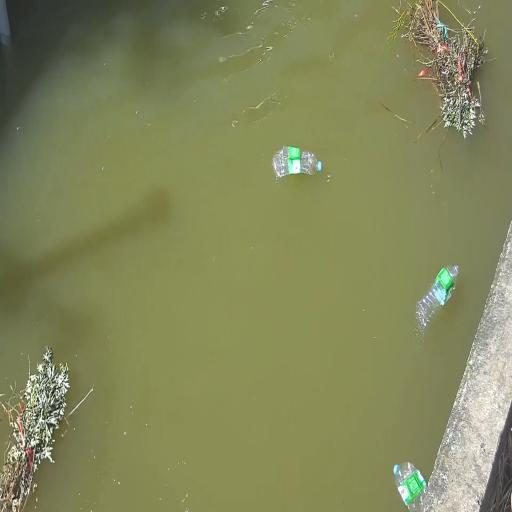plastic: (416, 266, 458, 330), (394, 462, 426, 511), (273, 147, 321, 178)
twig: (388, 0, 487, 138), (0, 346, 69, 512)
